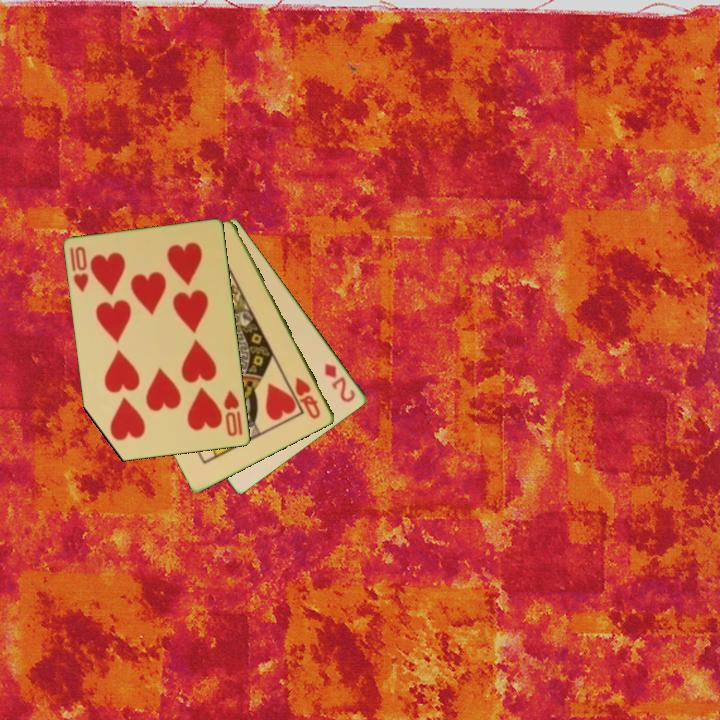10h: (221, 387, 246, 439), (67, 243, 92, 295)
2d: (321, 360, 359, 405)
Qh: (292, 374, 324, 422)
